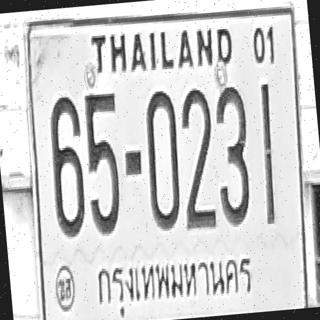N00: (141, 88, 184, 232)
N01: (255, 82, 280, 224)
N02: (175, 86, 220, 230)
N03: (210, 83, 255, 227)
N05: (81, 90, 126, 236)
N06: (46, 94, 89, 238)
P04: (87, 234, 258, 319)
